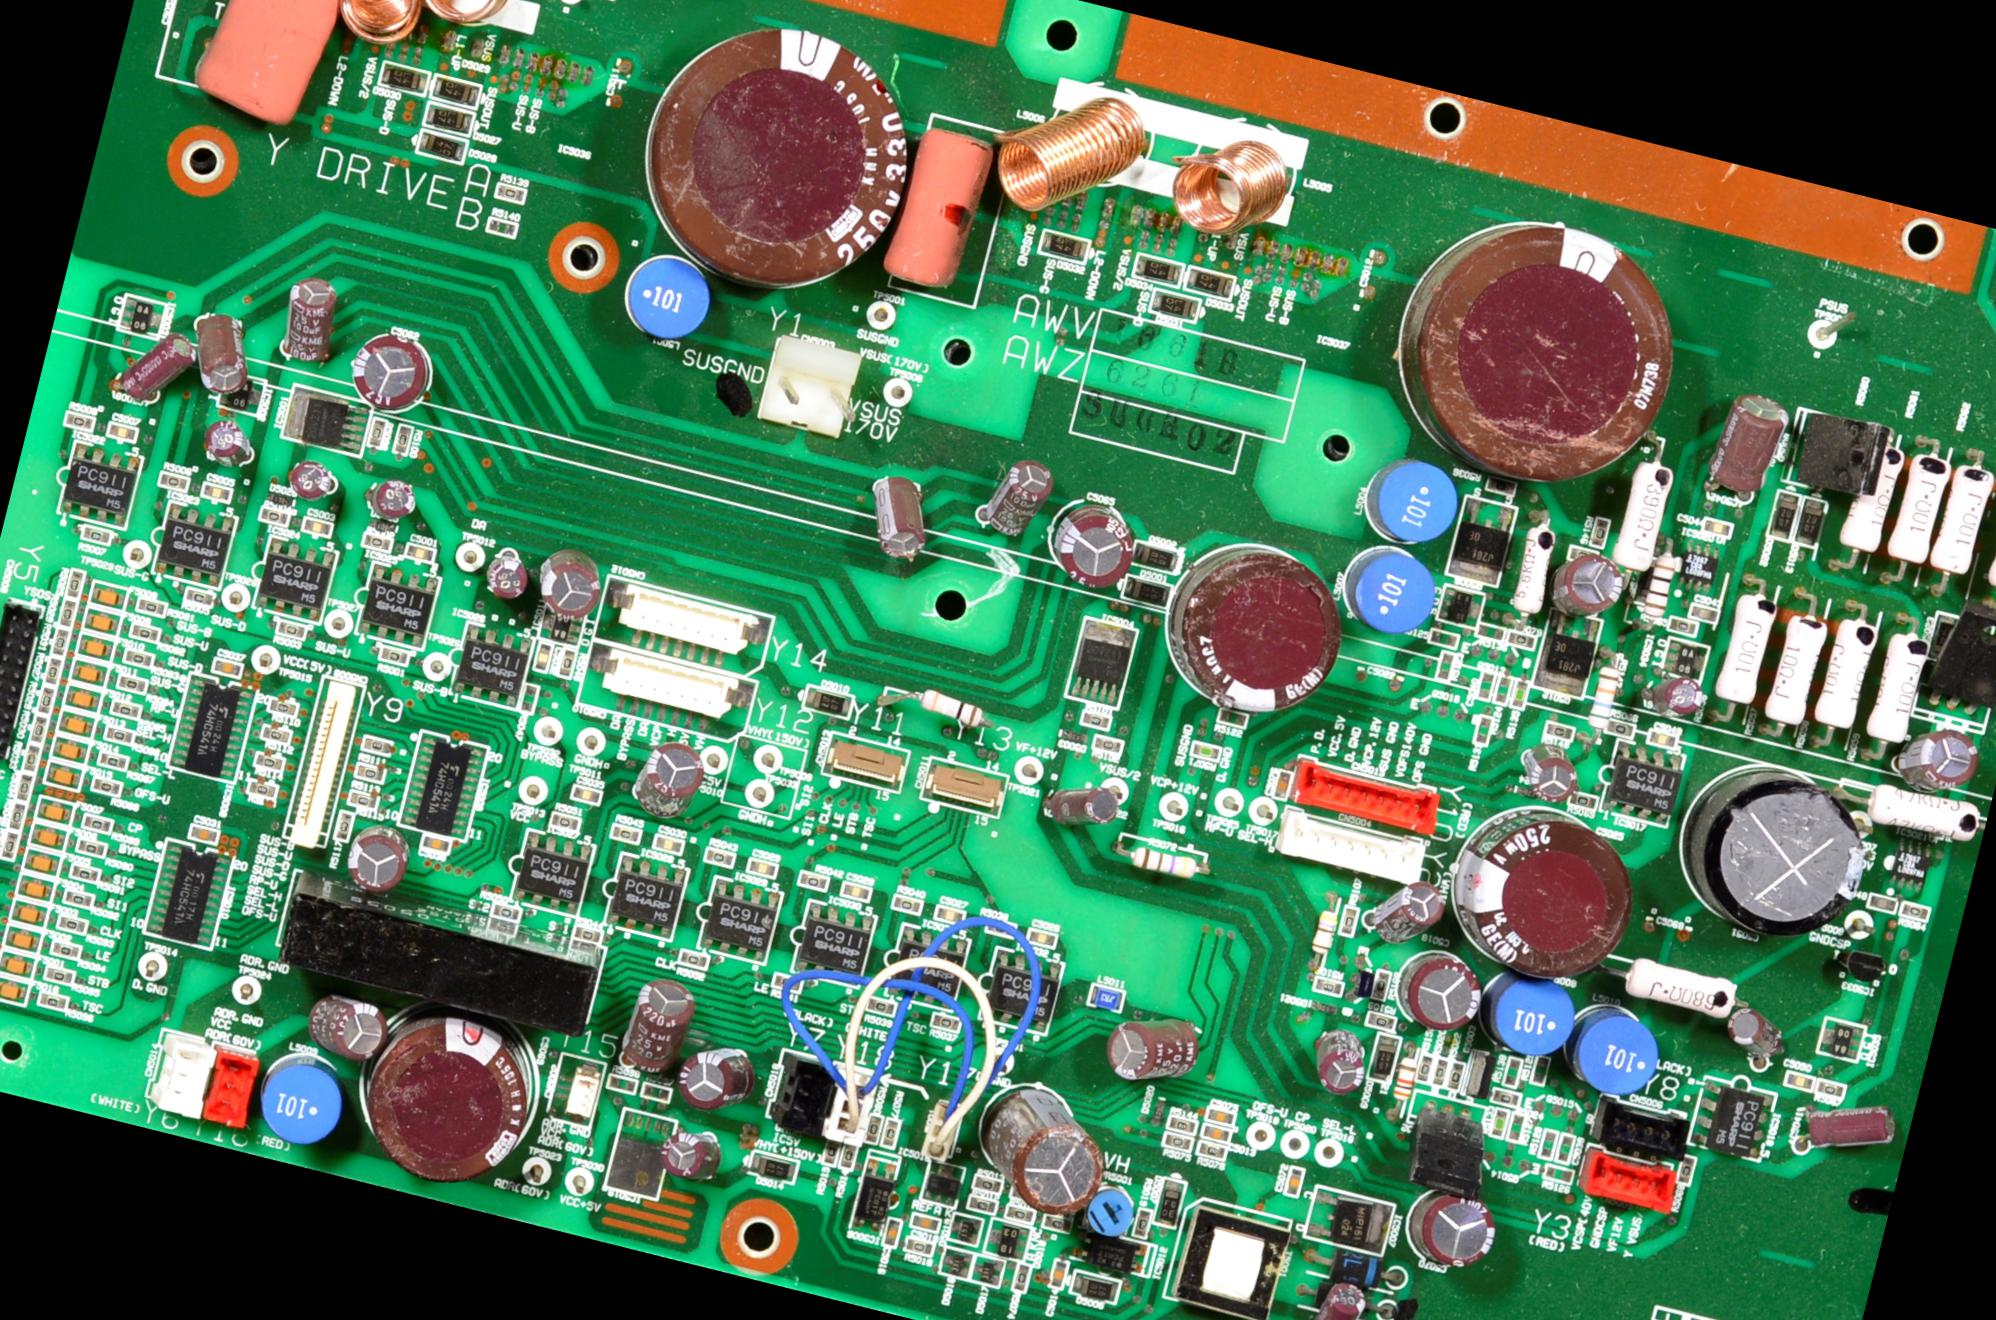Capacitor Jumper: (352, 1002, 547, 1195), (962, 1078, 1121, 1223), (1701, 390, 1785, 511), (1100, 1009, 1205, 1093), (854, 470, 938, 566), (346, 327, 435, 415), (1055, 499, 1137, 594), (1399, 949, 1488, 1036), (620, 974, 694, 1077), (1407, 1189, 1500, 1268), (673, 1034, 762, 1117), (977, 454, 1056, 545), (186, 308, 261, 396), (306, 990, 390, 1062), (118, 330, 193, 410), (635, 735, 704, 819), (1376, 872, 1448, 952), (277, 278, 337, 365), (1556, 548, 1626, 622), (343, 824, 414, 896), (1906, 729, 1978, 800), (1041, 775, 1122, 835), (536, 548, 604, 619), (1307, 1030, 1374, 1099), (1519, 741, 1586, 804), (658, 1123, 723, 1186), (1298, 1274, 1371, 1319), (199, 414, 256, 468), (1654, 675, 1707, 725), (368, 474, 417, 523), (485, 554, 530, 601), (287, 460, 333, 499), (651, 832, 685, 856), (1701, 516, 1734, 539), (1553, 1131, 1575, 1165), (189, 824, 221, 846), (301, 516, 333, 538), (405, 541, 437, 563), (841, 881, 872, 903), (745, 857, 776, 880), (1047, 1260, 1069, 1291), (1285, 1164, 1305, 1196), (572, 784, 602, 804), (934, 906, 965, 927), (1205, 1106, 1236, 1127), (1201, 1123, 1231, 1143), (881, 1217, 902, 1248), (1866, 893, 1897, 913), (1273, 769, 1293, 800), (532, 641, 552, 672), (106, 423, 138, 442), (211, 659, 242, 678), (1477, 672, 1497, 703), (1785, 1071, 1815, 1090), (1688, 604, 1718, 623), (421, 835, 449, 854), (910, 1211, 938, 1230), (202, 483, 231, 501), (1030, 928, 1058, 946), (1648, 731, 1676, 745)
Connector: (577, 639, 760, 744), (592, 575, 775, 678), (281, 676, 364, 850), (1286, 754, 1442, 838), (1276, 804, 1427, 885), (1589, 1095, 1694, 1167), (1575, 1146, 1681, 1215), (0, 600, 43, 760), (144, 1030, 218, 1121), (193, 1040, 262, 1133), (770, 1053, 840, 1133), (921, 756, 1009, 818), (820, 731, 910, 791), (823, 1068, 879, 1146), (548, 1055, 604, 1124)
IC: (141, 838, 233, 950), (166, 672, 258, 782), (399, 729, 488, 840), (1600, 737, 1688, 829), (1687, 1075, 1777, 1162), (510, 828, 595, 915), (698, 875, 782, 962), (57, 440, 141, 527), (605, 853, 686, 938), (1065, 616, 1137, 710), (981, 949, 1062, 1033), (153, 502, 234, 586), (1304, 1186, 1396, 1258), (452, 623, 532, 707), (793, 902, 872, 986), (358, 563, 437, 647), (255, 538, 334, 620), (607, 1109, 676, 1199), (890, 928, 968, 1008), (281, 386, 370, 455), (851, 1156, 902, 1230), (1071, 1229, 1146, 1274), (1672, 535, 1723, 594), (115, 296, 175, 339), (1816, 1015, 1866, 1065), (1832, 946, 1890, 987), (1660, 636, 1710, 682), (921, 1159, 965, 1208), (1888, 843, 1933, 890), (983, 1218, 1031, 1261), (538, 604, 585, 647), (217, 376, 265, 417), (949, 1212, 984, 1246), (969, 1254, 1005, 1288), (940, 1248, 974, 1280)
Resistor Jumper: (871, 670, 1000, 741), (1762, 610, 1825, 725), (1609, 460, 1673, 572), (1840, 440, 1903, 554), (1715, 594, 1778, 704), (1868, 632, 1931, 742), (1888, 451, 1950, 561), (1815, 622, 1874, 728), (1934, 463, 1990, 573), (1106, 832, 1214, 890), (1507, 523, 1561, 620), (1642, 548, 1679, 620), (1586, 663, 1623, 734), (1389, 1045, 1422, 1112), (1310, 906, 1339, 962), (377, 644, 411, 667), (365, 415, 389, 449), (1215, 707, 1251, 729), (348, 788, 379, 813), (1508, 676, 1531, 710), (798, 869, 829, 893), (1338, 905, 1360, 937), (1815, 1078, 1847, 1100), (1312, 975, 1345, 997), (252, 751, 284, 773), (1675, 1154, 1697, 1186), (485, 217, 517, 239), (390, 423, 412, 455), (258, 505, 290, 527), (267, 697, 298, 719), (1161, 1131, 1192, 1154), (1198, 1140, 1229, 1162), (1364, 1012, 1396, 1033), (1503, 1056, 1523, 1089), (1444, 1059, 1464, 1092), (1542, 720, 1575, 741), (1078, 709, 1111, 729), (1189, 741, 1221, 762), (80, 524, 112, 545), (184, 586, 215, 607), (891, 894, 922, 915), (1491, 1087, 1522, 1108), (333, 809, 354, 840), (69, 863, 100, 884), (972, 1174, 1003, 1195), (1131, 1208, 1152, 1239), (37, 990, 68, 1011), (904, 1236, 935, 1257), (1011, 1263, 1031, 1293), (493, 183, 524, 203), (1492, 675, 1513, 706), (1473, 715, 1494, 745), (63, 411, 94, 432), (159, 471, 190, 492), (52, 625, 71, 657), (1371, 968, 1391, 1000), (0, 829, 19, 862), (1485, 474, 1517, 494), (987, 918, 1016, 938), (1529, 1056, 1550, 1086), (1544, 1164, 1573, 1184), (679, 950, 709, 971), (1043, 1214, 1072, 1235), (275, 620, 306, 639), (124, 648, 155, 667), (704, 847, 735, 866), (355, 762, 386, 781), (105, 726, 136, 745), (97, 750, 128, 769), (492, 903, 523, 922), (63, 890, 94, 909), (56, 913, 87, 933), (966, 1195, 997, 1214), (1005, 1205, 1036, 1224), (1589, 516, 1609, 547), (1668, 614, 1698, 633), (361, 533, 392, 552), (1607, 719, 1635, 740), (1093, 734, 1121, 754), (261, 725, 290, 744), (610, 824, 639, 843), (1414, 1052, 1433, 1081), (29, 715, 49, 744), (247, 779, 277, 798), (91, 776, 121, 796), (772, 972, 801, 991), (931, 1012, 960, 1031), (866, 996, 896, 1015), (7, 801, 27, 831), (881, 1118, 900, 1148), (642, 1081, 672, 1100), (50, 940, 80, 959), (44, 965, 74, 984), (1505, 631, 1535, 650), (1900, 900, 1930, 919), (558, 648, 577, 678), (1167, 1117, 1198, 1134), (519, 684, 538, 712), (57, 598, 77, 626), (37, 687, 56, 715), (1430, 1058, 1449, 1086), (1489, 1108, 1508, 1136), (1507, 1112, 1526, 1140), (15, 773, 34, 801), (865, 1115, 884, 1143), (608, 1072, 636, 1092), (66, 569, 84, 598), (362, 737, 392, 754), (46, 657, 63, 687), (24, 742, 41, 772), (573, 925, 602, 943), (82, 815, 112, 832), (110, 701, 138, 719), (551, 813, 579, 831), (77, 838, 105, 856), (1477, 625, 1507, 641), (822, 1140, 840, 1165), (1570, 790, 1595, 807), (118, 676, 143, 692), (840, 1146, 854, 1171)
Transistor: (1447, 495, 1516, 586), (1535, 610, 1601, 698), (1438, 583, 1486, 628)
